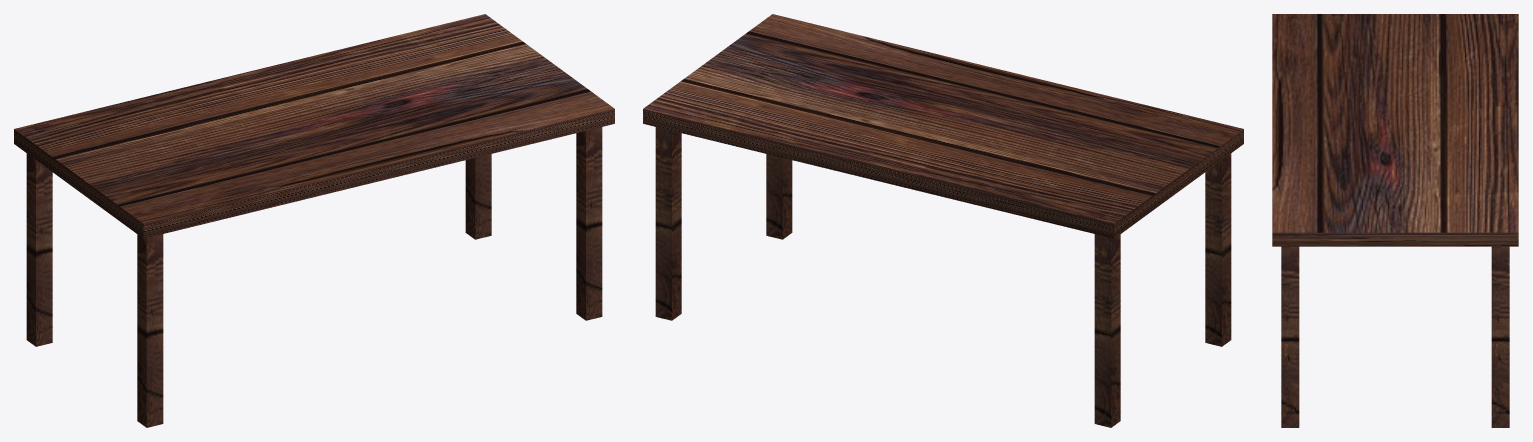
Rendered from mesa.obj.
The picture shows the model from 3 angles, left to right: view 1: azimuth 30°, elevation 25°; view 2: azimuth 150°, elevation 25°; view 3: azimuth 270°, elevation 25°; orthographic projection. The views are drawn at different scales.
Parts seen in each view (by area): view 1: Cube, Cube.004, Cube.003, Cube.002, Cube.001; view 2: Cube, Cube.002, Cube.001, Cube.004, Cube.003; view 3: Cube, Cube.001, Cube.003.
Part boxes in pixels (left/top/right/bottom): Cube: left=14, top=14, right=614, bottom=238; Cube.004: left=137, top=234, right=163, bottom=427; Cube.003: left=576, top=127, right=602, bottom=320; Cube.002: left=26, top=153, right=52, bottom=346; Cube.001: left=465, top=154, right=491, bottom=239; Cube: left=643, top=14, right=1243, bottom=238; Cube.002: left=1094, top=234, right=1120, bottom=427; Cube.001: left=655, top=127, right=681, bottom=320; Cube.004: left=1205, top=153, right=1231, bottom=346; Cube.003: left=766, top=154, right=792, bottom=239; Cube: left=1272, top=14, right=1518, bottom=246; Cube.001: left=1491, top=246, right=1509, bottom=427; Cube.003: left=1281, top=246, right=1299, bottom=427.
Size of the model in its own units: 18.67 by 7.93 by 8.89.
Materials: 5 (5 with a texture image).
